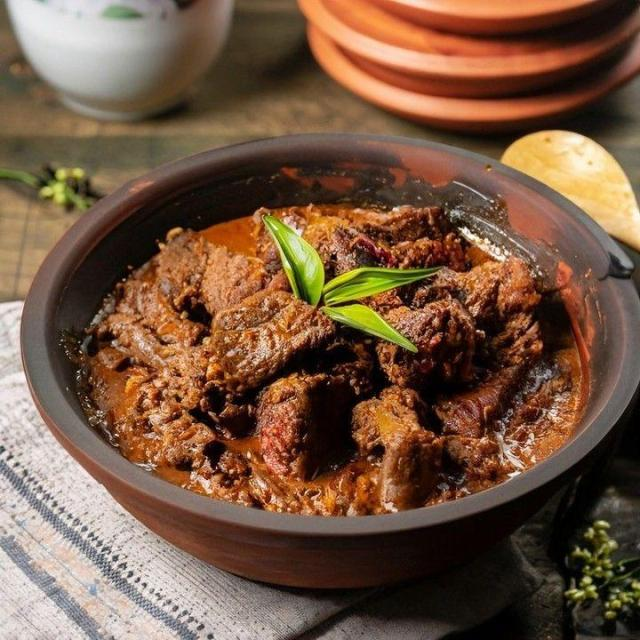Rendang: (86, 193, 609, 514)
